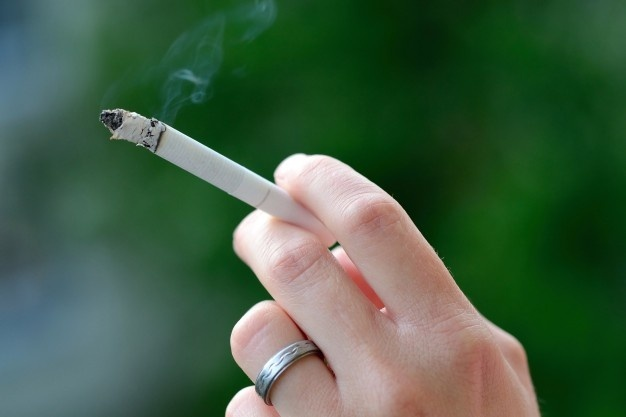sigaretta: (102, 97, 346, 252)
